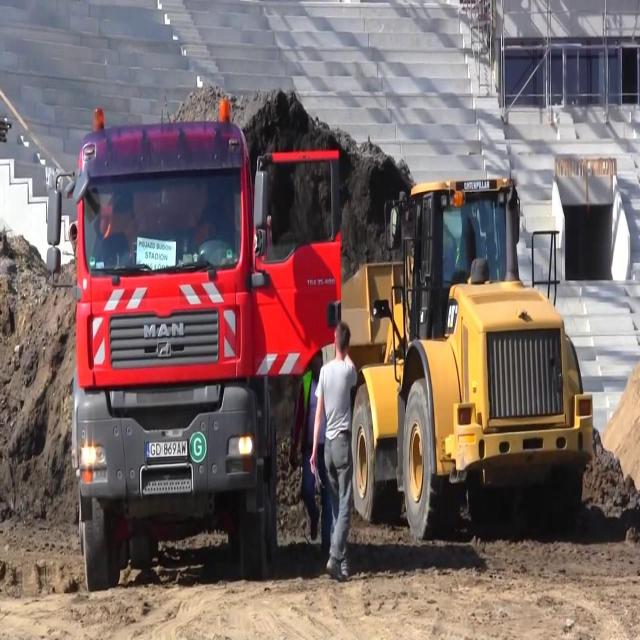Dump Truck: (48, 105, 338, 591)
Loader: (335, 180, 595, 550)
